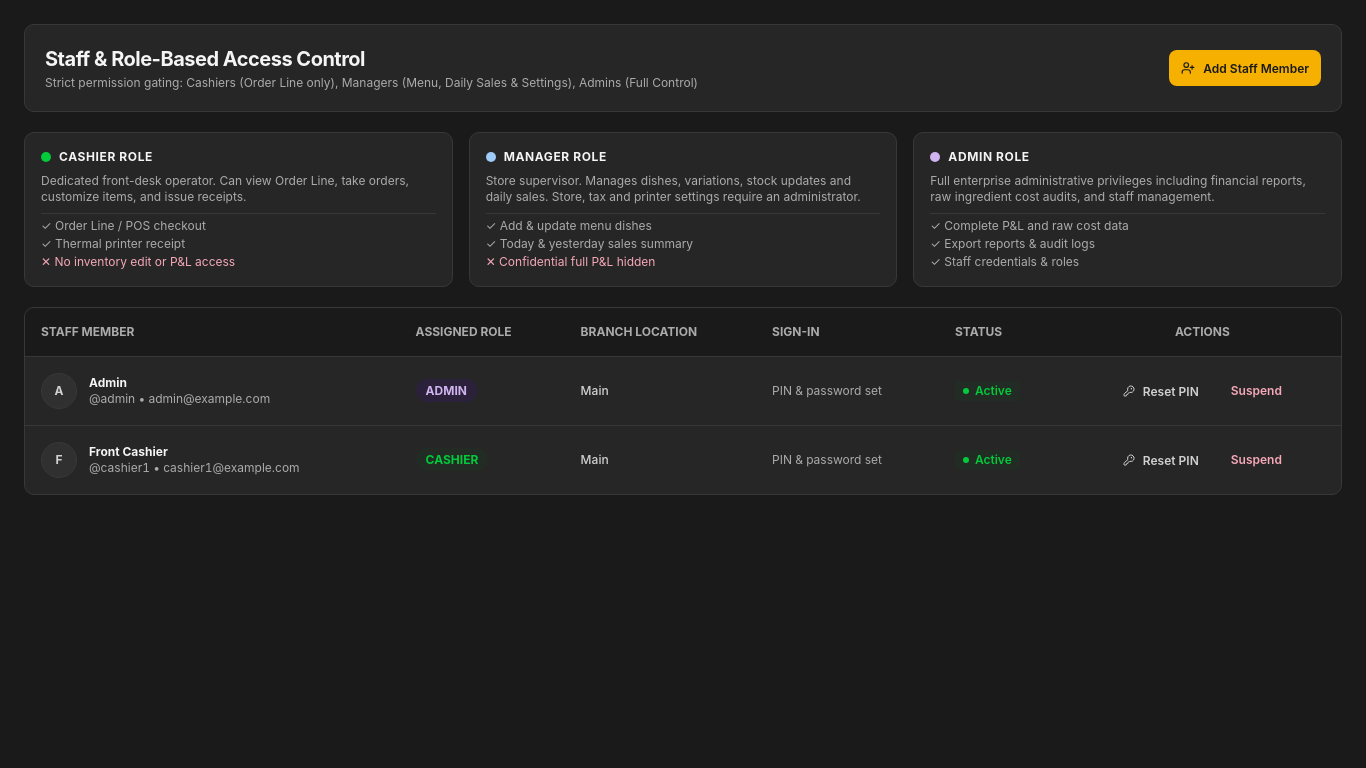
Test: App login screen and staff PIN reset › allows an admin to reset a staff member PIN from Staff Management
Click the button "Reset PIN" in the row of "Front Cashier": (1161, 460) top-left (1111, 442), bottom-right (1211, 478)
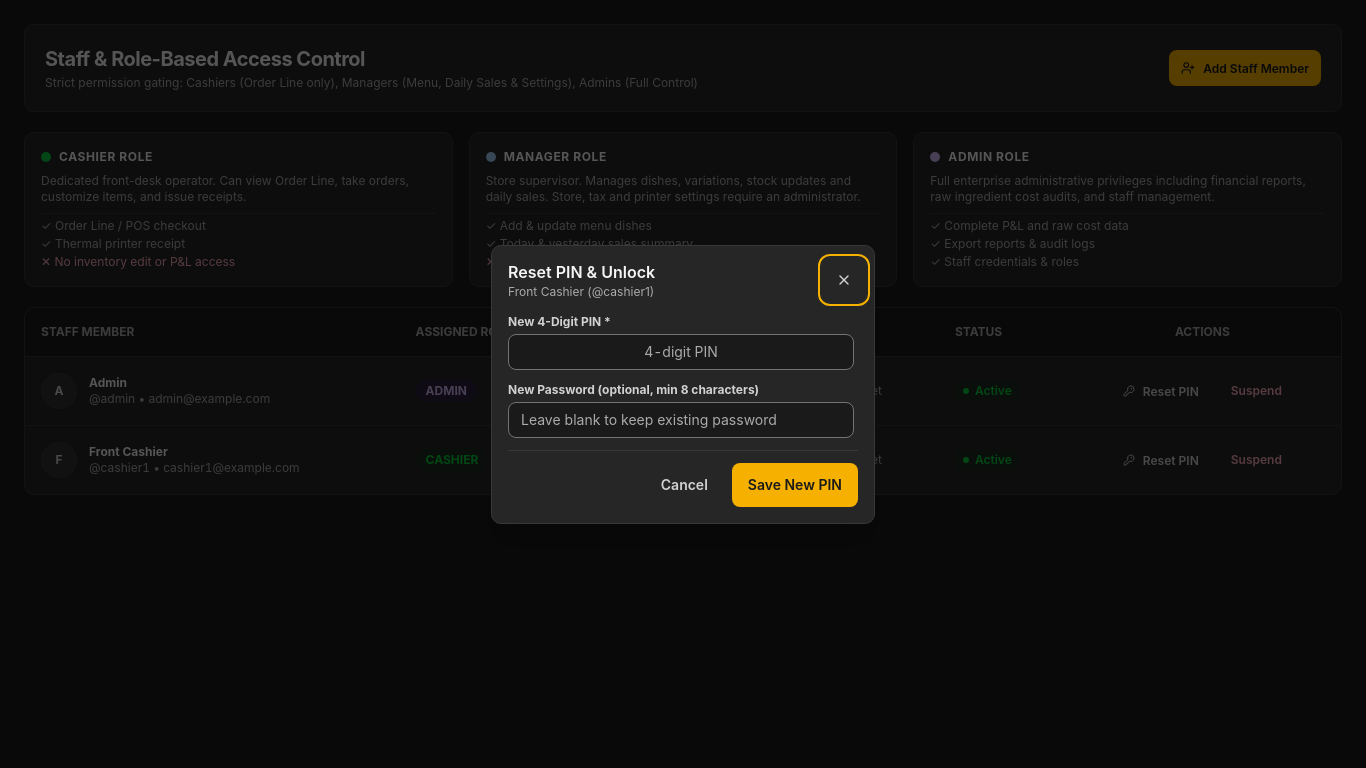
Expected: the heading "Reset PIN & Unlock" is shown, top-left (508, 262), bottom-right (655, 282)
In the password field with placeholder "4-Digit PIN": (681, 352) top-left (508, 334), bottom-right (854, 370), type "9876"
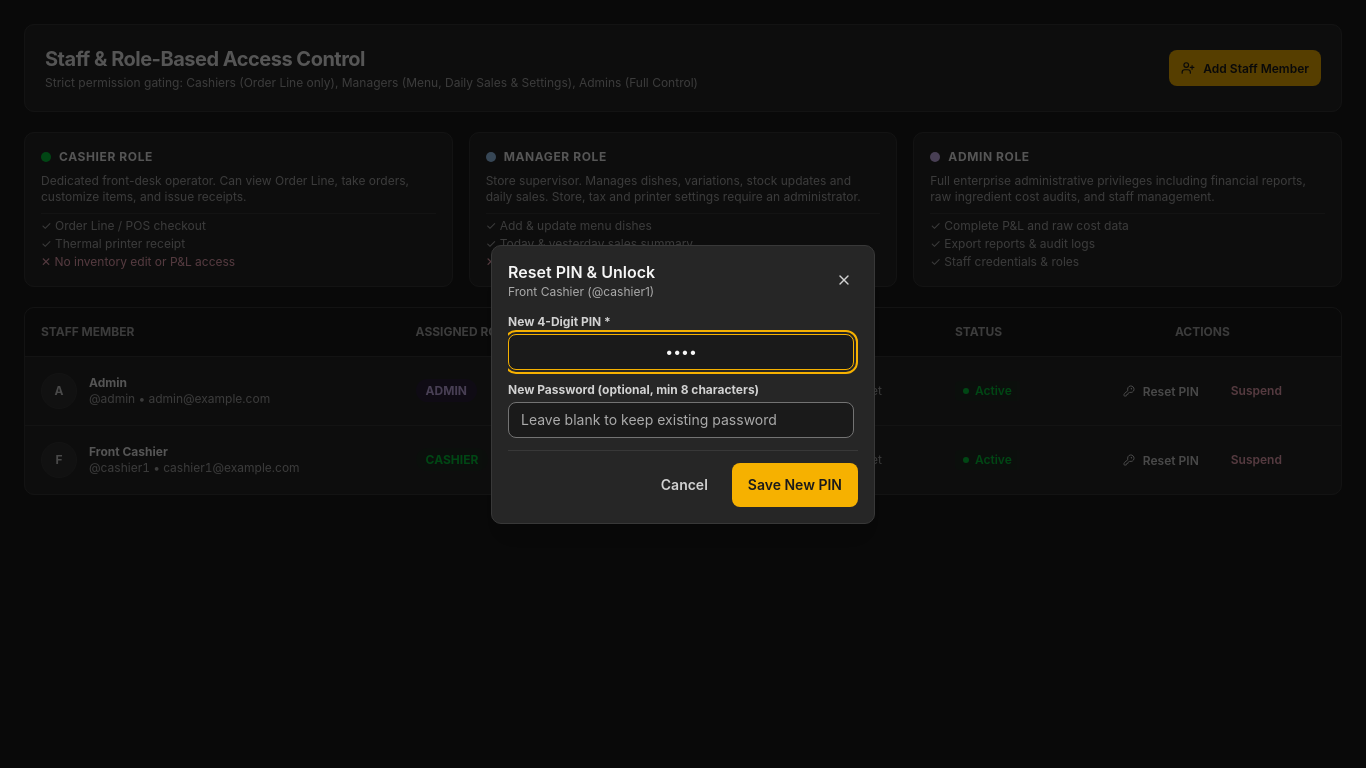
Click the button "Save New PIN": (795, 484) top-left (732, 462), bottom-right (858, 506)
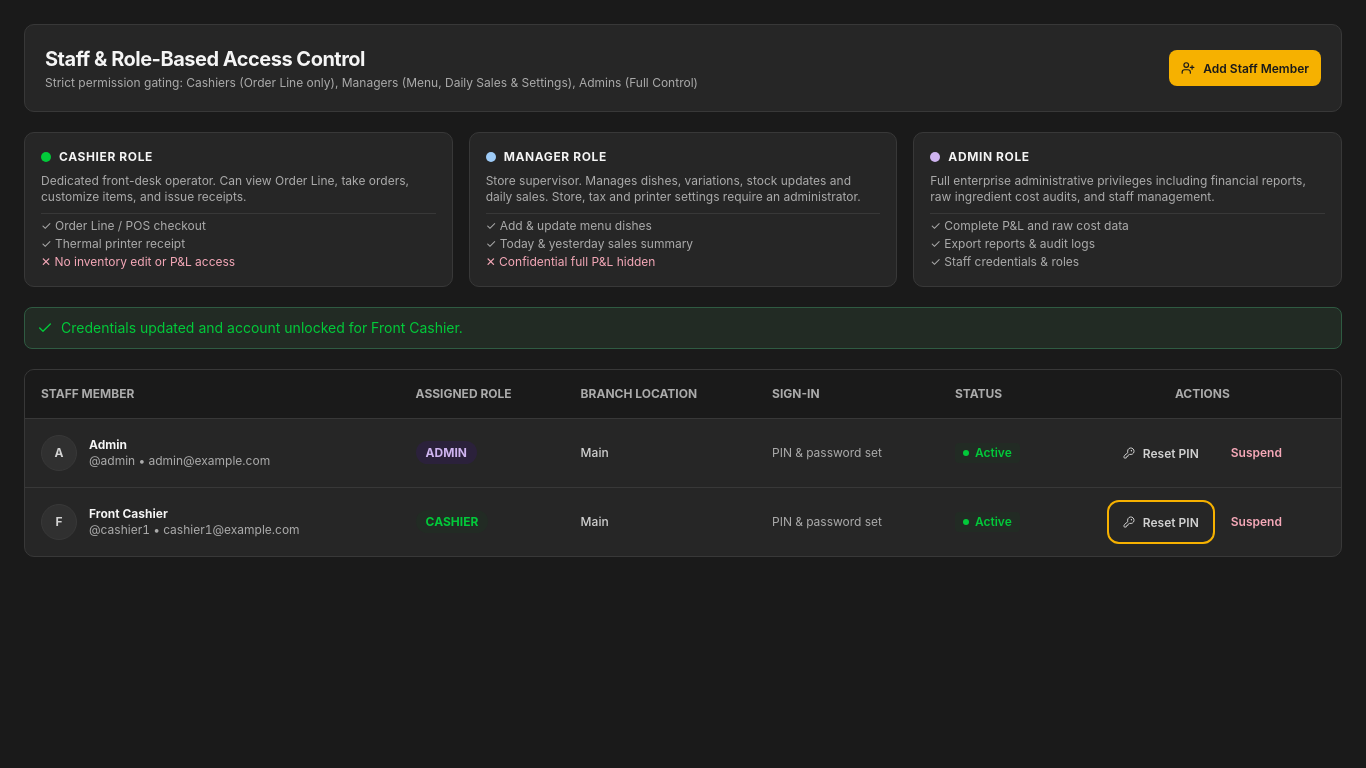
Expected: the text "Credentials updated and account unlocked for Front Cashier." is shown, top-left (61, 318), bottom-right (463, 338)
